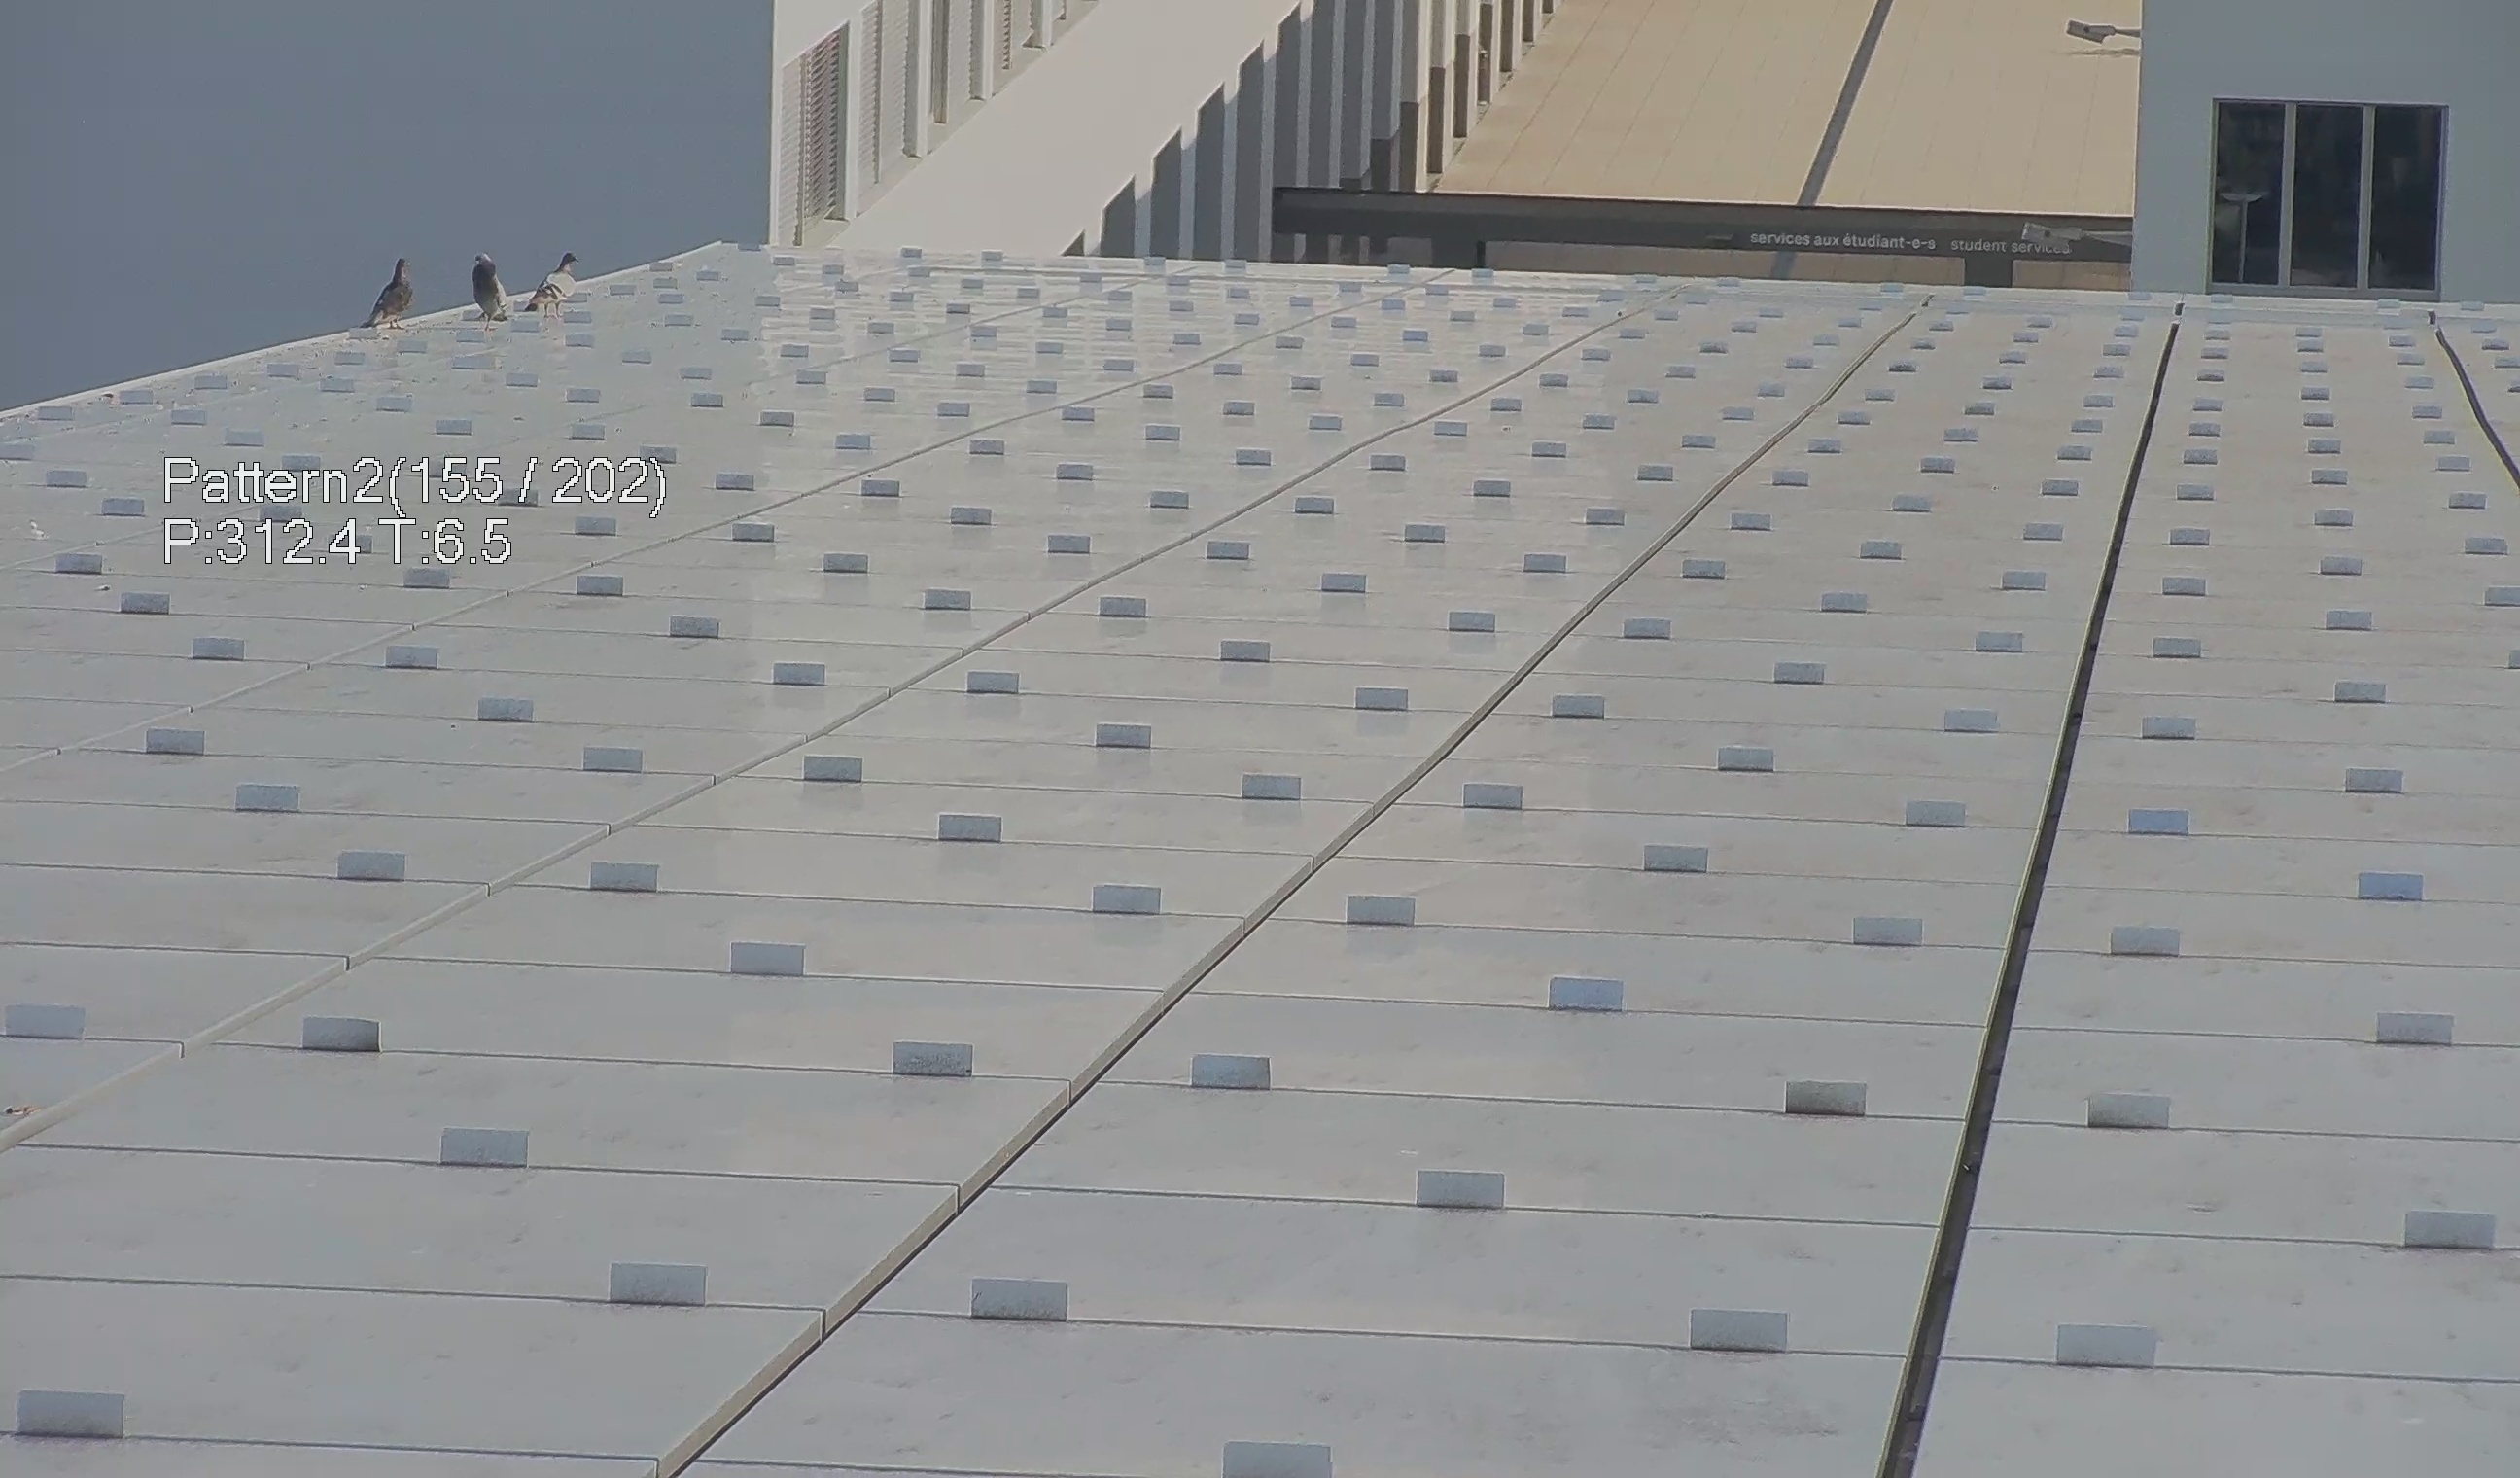Pigeon: (345, 238, 406, 340), (461, 243, 519, 331), (529, 250, 589, 320)
